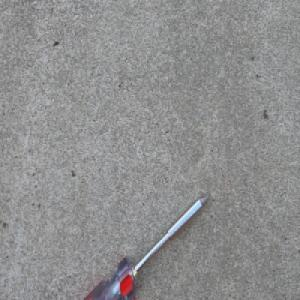Screwdriver: (81, 192, 211, 300)
